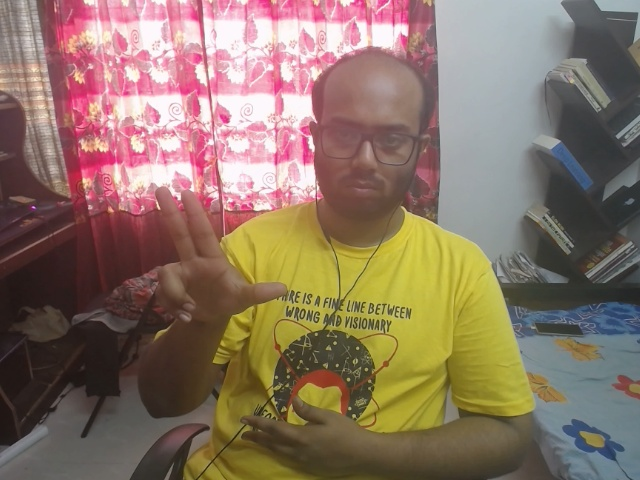eight: (127, 168, 302, 356)
